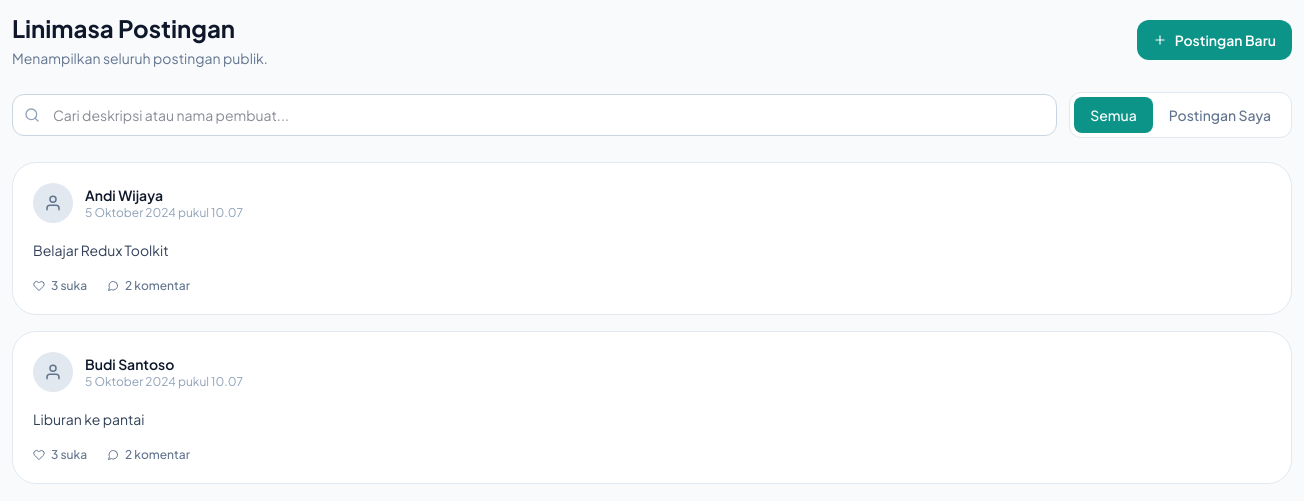
Test: HomePage › memfilter postingan berdasarkan deskripsi dan nama penulis
This screenshot has width=1304, height=501.
Expected: the number of links is 2, [12, 162, 1292, 315]; [12, 331, 1292, 484]
# Cocok dengan deskripsi.
In the search field named "Cari postingan": {"x": 535, "y": 115} [12, 94, 1057, 136], type "redux"
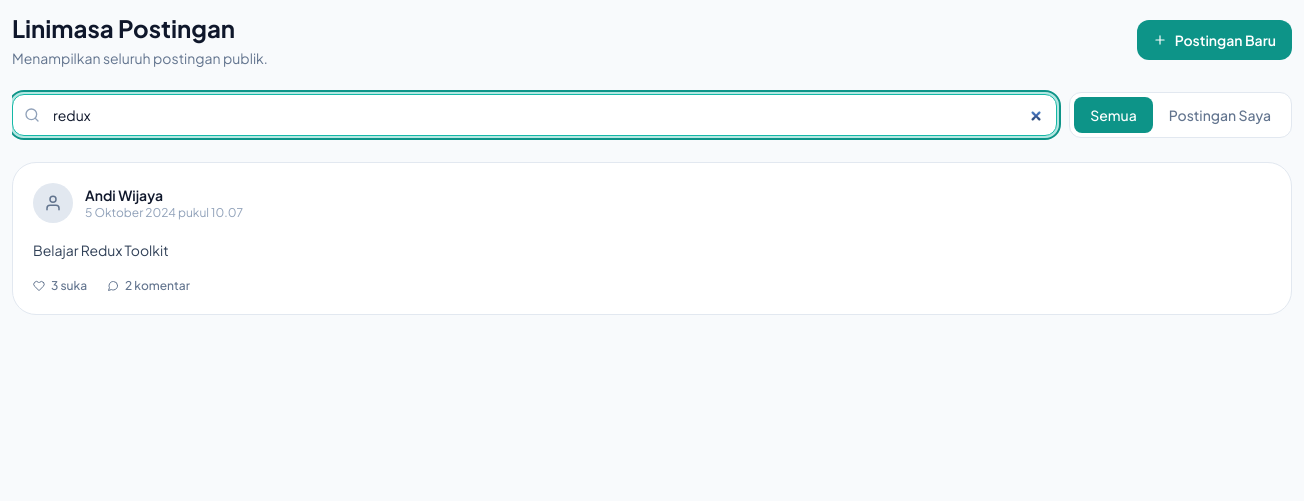
Expected: the text "Belajar Redux Toolkit" is shown, [33, 241, 169, 259]
Expected: the number of links is 1, [12, 162, 1292, 315]
# Cocok dengan nama penulis.
Replace the text in the search field named "Cari postingan" with "budi": {"x": 535, "y": 115} [12, 94, 1057, 136]
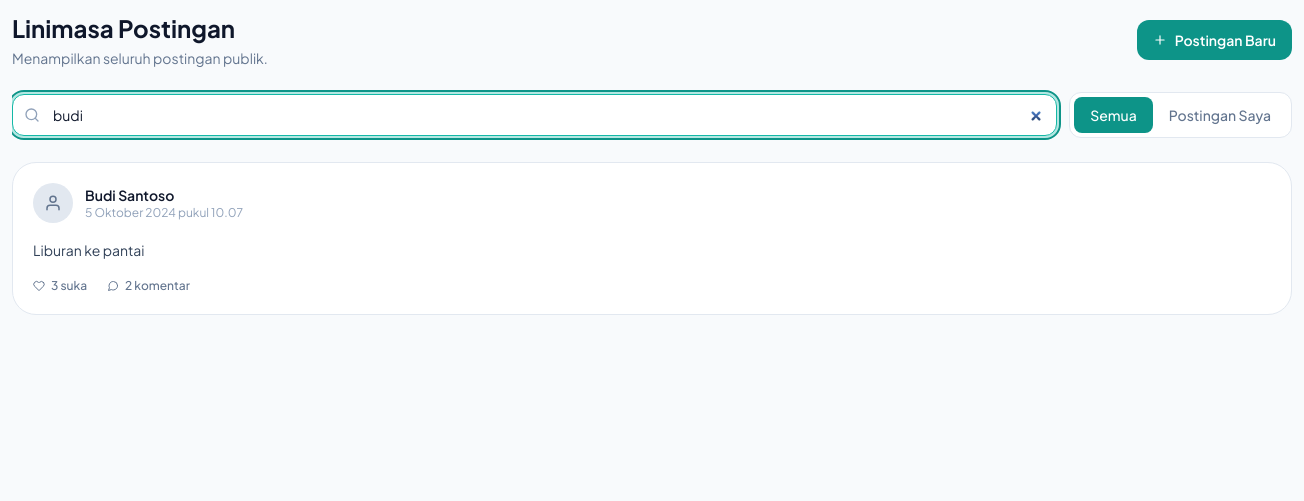
Expected: the text "Liburan ke pantai" is shown, [33, 241, 144, 259]
Expected: the number of links is 1, [12, 162, 1292, 315]
# Tidak cocok sama sekali.
Replace the text in the search field named "Cari postingan" with "tidak-ada": {"x": 535, "y": 115} [12, 94, 1057, 136]
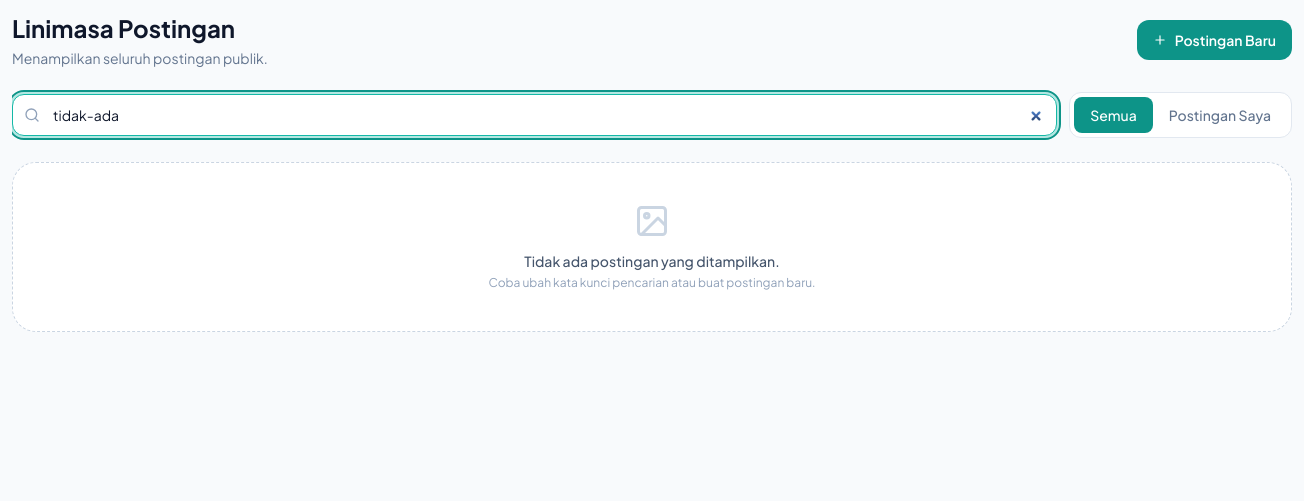
Expected: no links are shown
Expected: the text "Tidak ada postingan yang ditampilkan." is shown, [524, 252, 780, 270]
